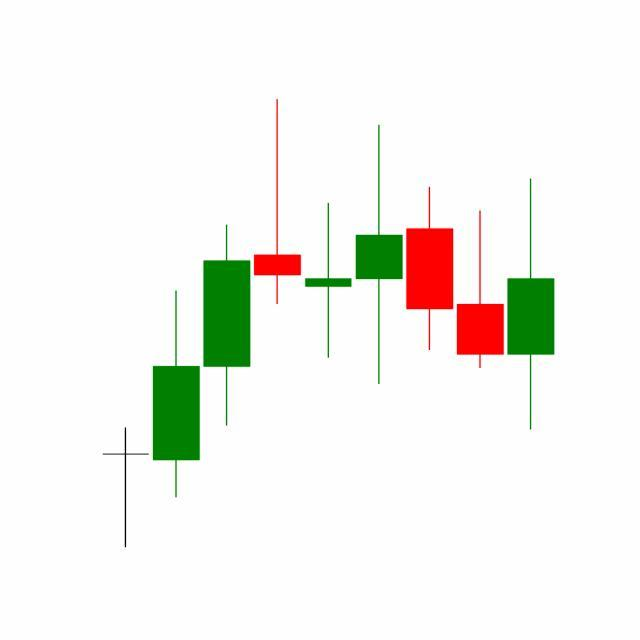Hikkake Pattern: (252, 99, 506, 389)
